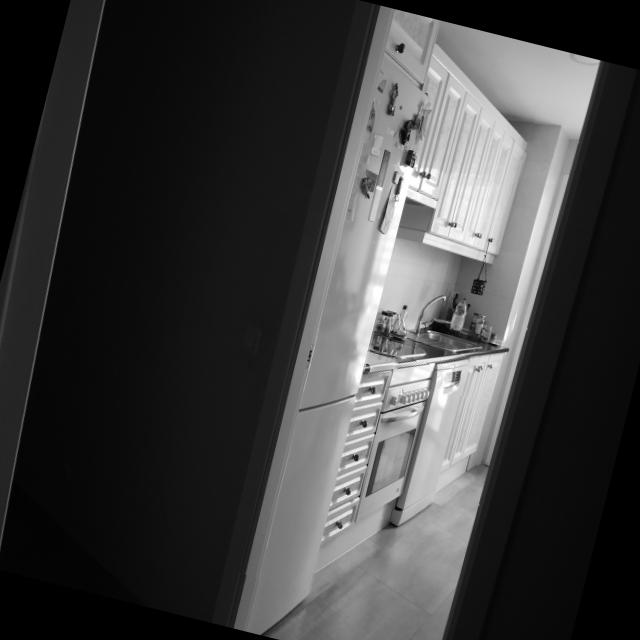cabinet: (396, 44, 527, 265), (322, 371, 392, 543), (435, 353, 504, 494)
countertop: (365, 344, 509, 373)
fridge: (245, 5, 435, 590)
oven: (355, 365, 433, 522)
shower: (409, 296, 480, 352)
sofa: (369, 334, 426, 359)
